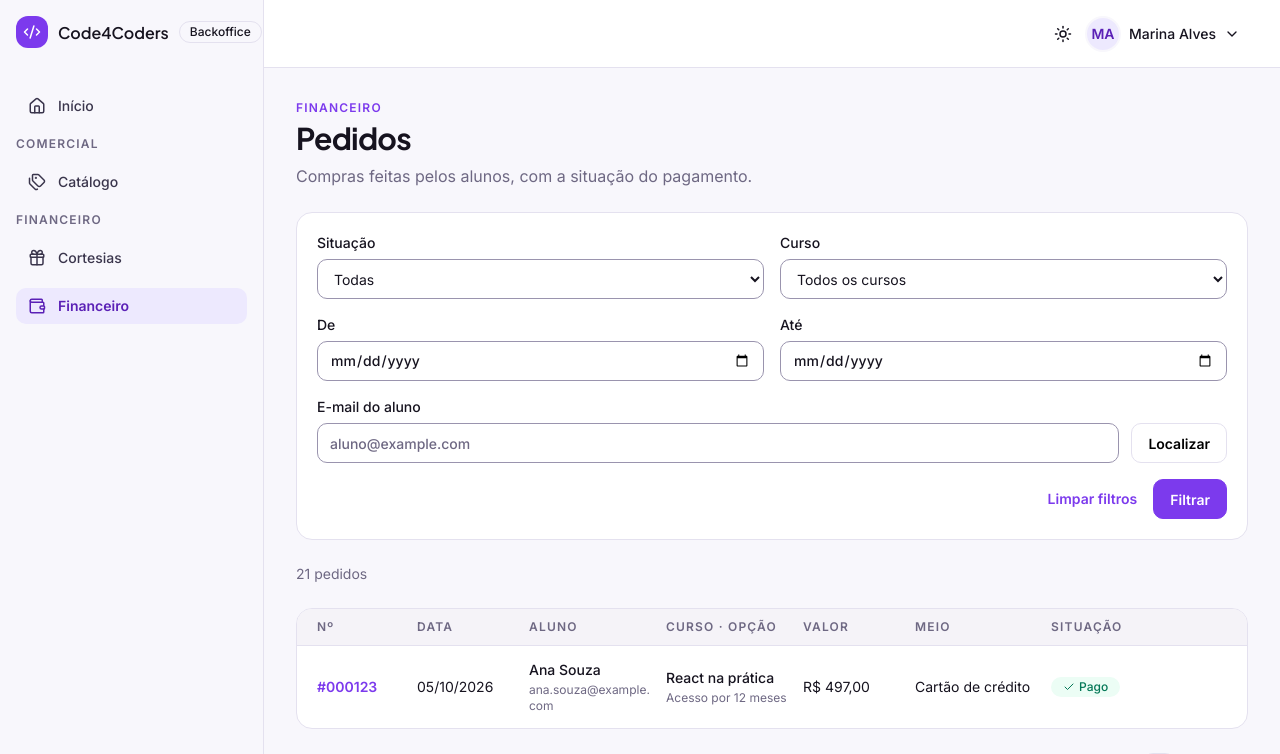
Test case: Finance orders › unknown student shows the indistinguishable message and does not apply a filter
This screenshot has width=1280, height=754.
Expected: the text "Ana Souza" is shown, [529,661,601,678]
Step 1. Type "unknown@example.com" into the field labelled "E-mail do aluno" → {"x": 718, "y": 443}, box [317,423,1119,463]
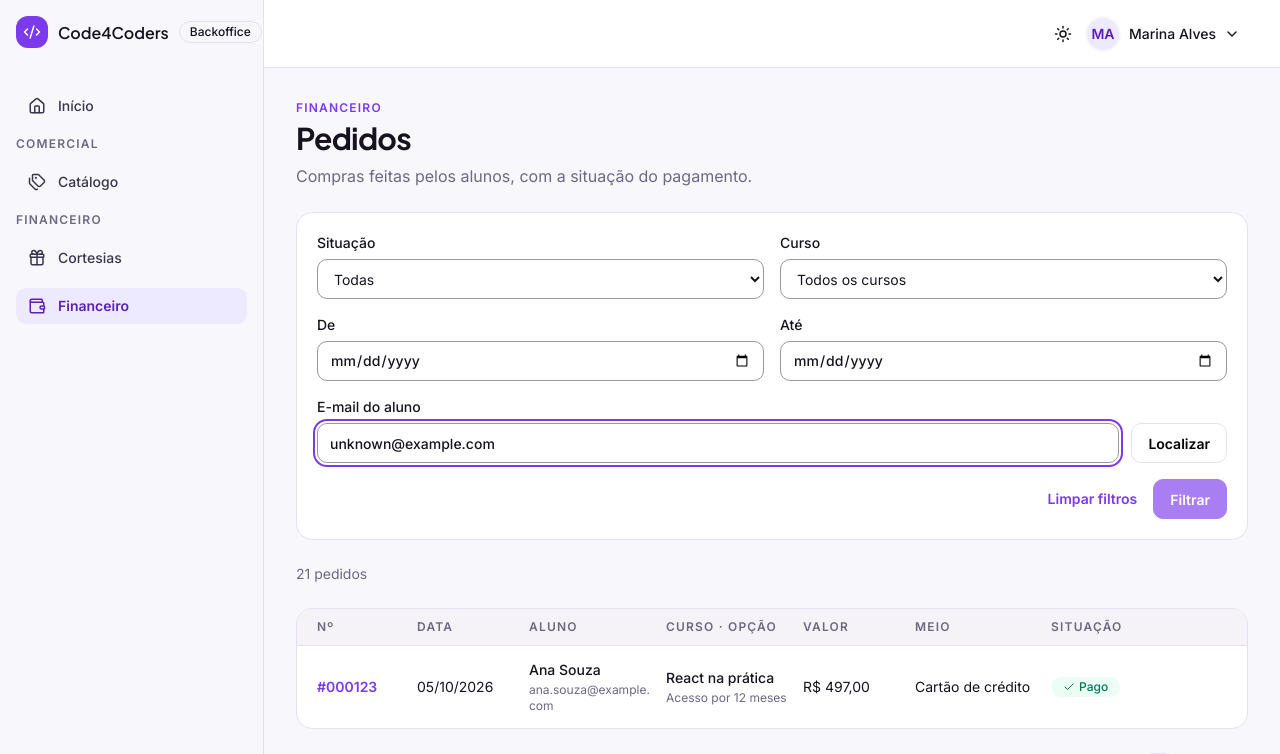
Step 2. Click the button "Localizar" → {"x": 1179, "y": 443}, box [1131,423,1227,463]
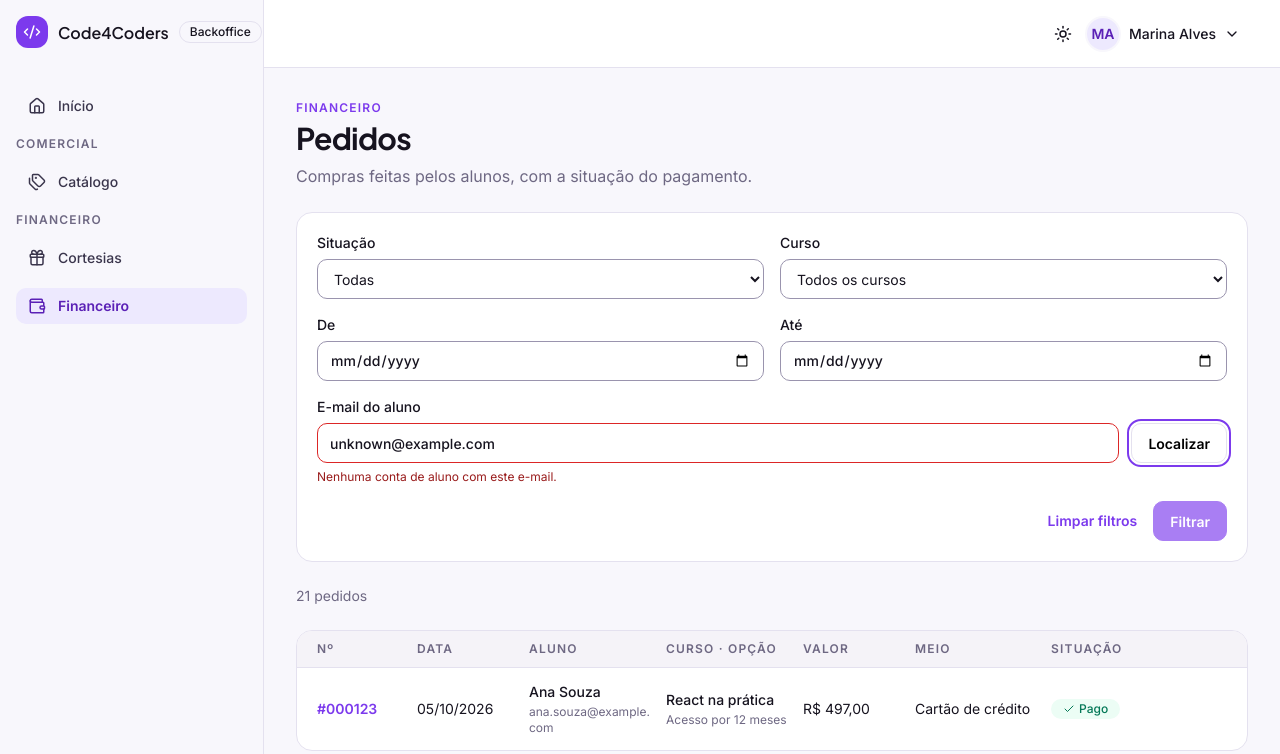
Expected: the text "Ana Souza" is shown, [529,683,601,700]
Result: the button "Filtrar" is disabled at [1153,501,1227,541]
Result: the text "Nenhuma conta de aluno com este e-mail." is shown at [317,469,557,484]
